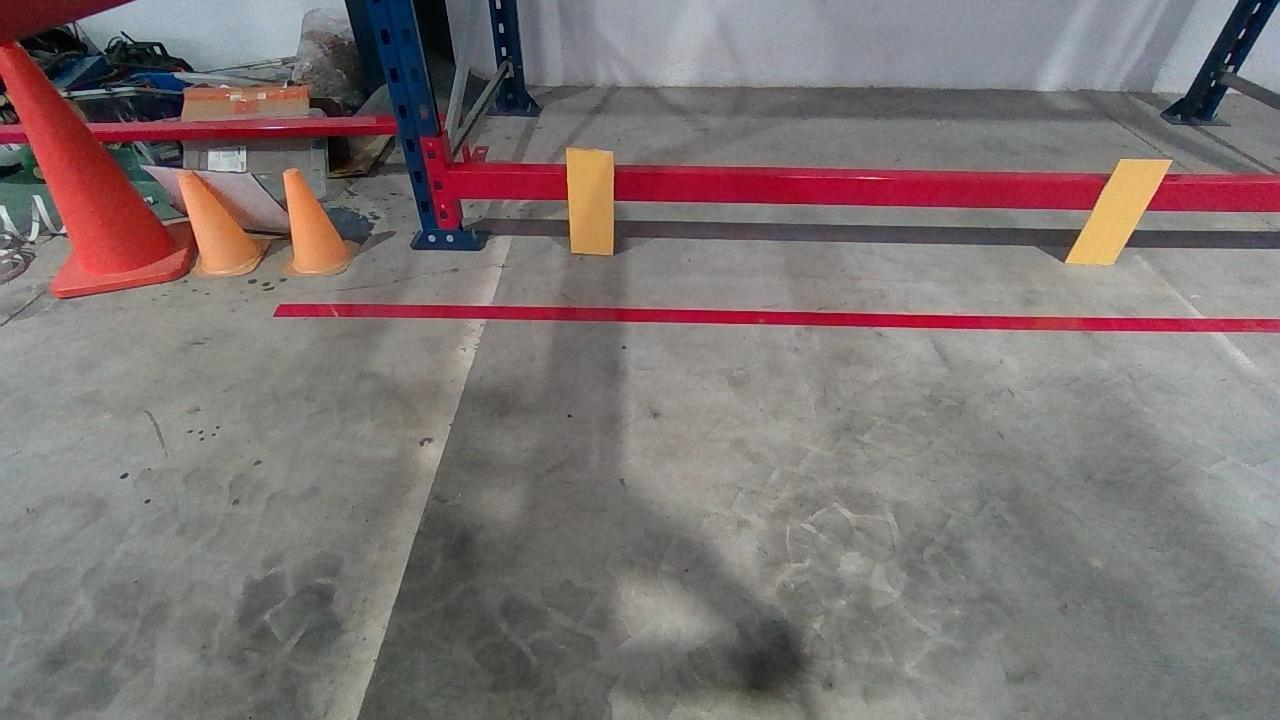h_rack: (453, 169, 1279, 215)
orange_strip: (1063, 158, 1175, 264), (567, 147, 615, 252)
red_line: (271, 302, 1279, 332)
